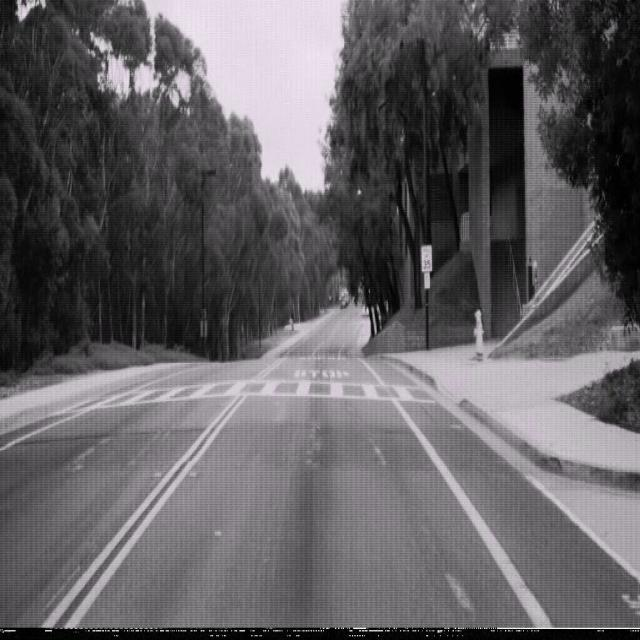speedLimit35: (421, 244, 432, 272)
